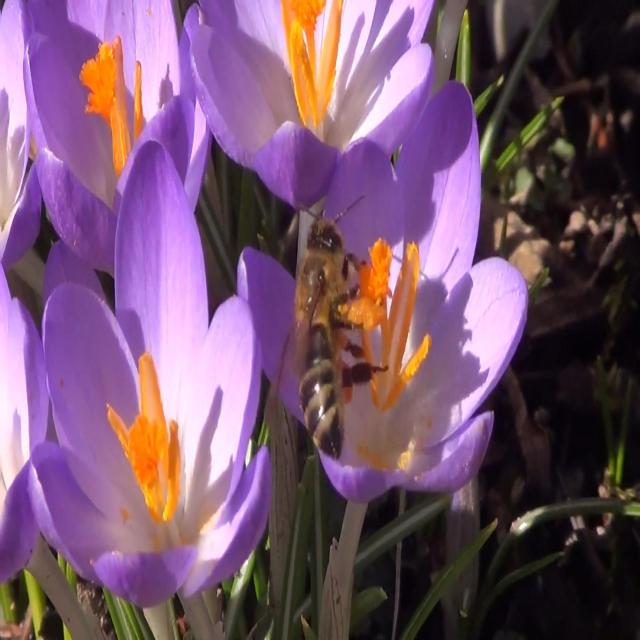honeybee: (298, 209, 356, 469)
